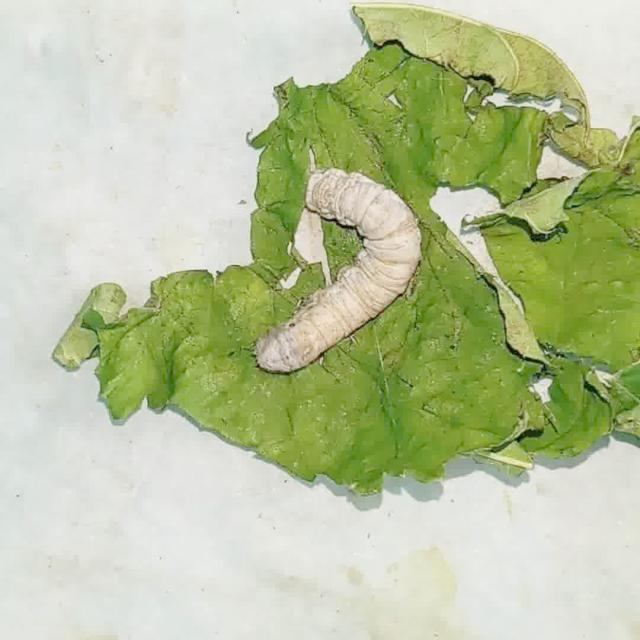Grasserie: (248, 152, 449, 374)
